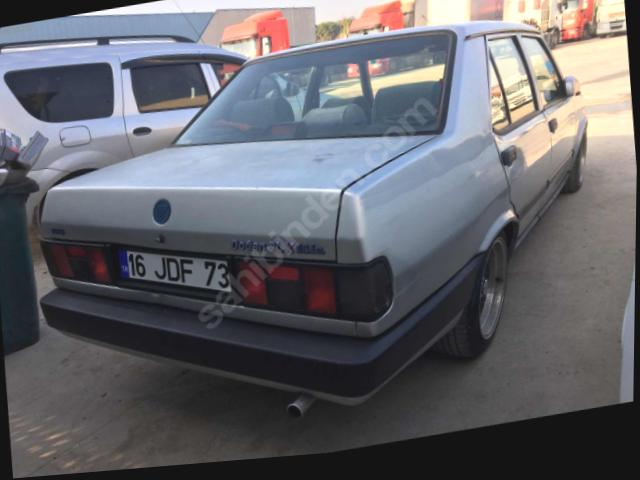plaka: (118, 250, 230, 291)
